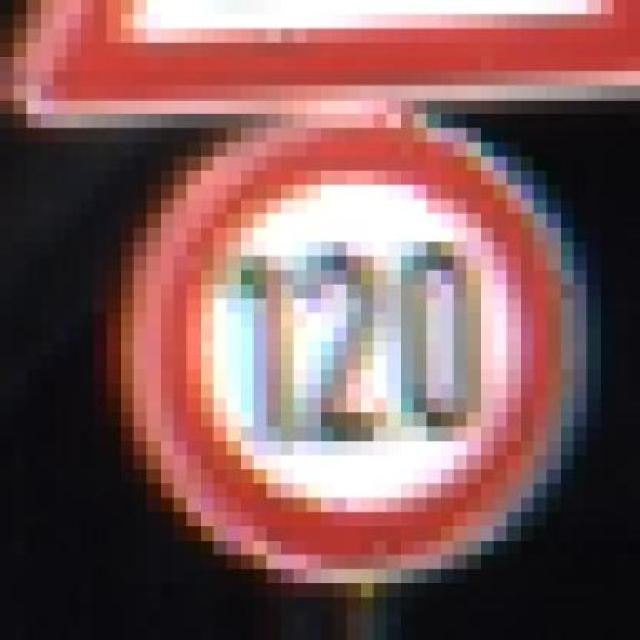forb_speed_over_120: (152, 127, 572, 576)
